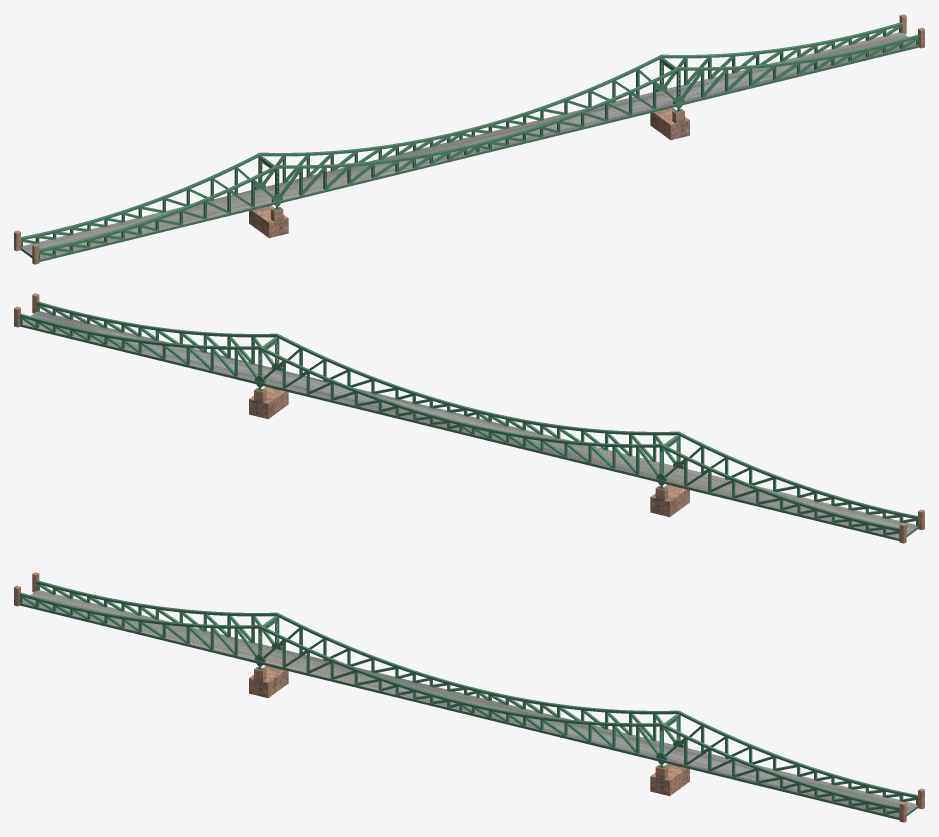
File: Eiserner Steg.fbx
3 renders of one model, top to bottom at view 1: azimuth 30°, elevation 25°; view 2: azimuth 150°, elevation 25°; view 3: azimuth 330°, elevation 25°, orthographic.
Visible parts, largest first — view 1: Object_32, Object_34, Object_33, Object_17, Object_23, Object_30, Object_24, Object_31, Object_18, Object_25, Object_7, Object_12; view 2: Object_32, Object_33, Object_34, Object_17, Object_30, Object_23, Object_31, Object_24, Object_25, Object_18, Object_7, Object_12; view 3: Object_32, Object_34, Object_33, Object_17, Object_23, Object_30, Object_18, Object_25, Object_24, Object_31, Object_7, Object_12.
Boxes of the visible parts, left/top/right/bottom form: Object_32: left=21, top=32, right=918, bottom=259; Object_34: left=21, top=22, right=902, bottom=240; Object_33: left=39, top=34, right=919, bottom=252; Object_17: left=21, top=45, right=919, bottom=261; Object_23: left=279, top=82, right=675, bottom=196; Object_30: left=263, top=69, right=658, bottom=184; Object_24: left=681, top=38, right=919, bottom=98; Object_31: left=664, top=26, right=902, bottom=86; Object_18: left=39, top=180, right=274, bottom=259; Object_25: left=21, top=168, right=256, bottom=247; Object_7: left=650, top=107, right=689, bottom=139; Object_12: left=249, top=205, right=288, bottom=238; Object_32: left=20, top=311, right=917, bottom=538; Object_33: left=36, top=301, right=917, bottom=519; Object_34: left=19, top=313, right=899, bottom=531; Object_17: left=19, top=324, right=917, bottom=540; Object_30: left=263, top=361, right=659, bottom=475; Object_23: left=280, top=348, right=675, bottom=463; Object_31: left=19, top=317, right=257, bottom=377; Object_24: left=36, top=305, right=274, bottom=365; Object_25: left=664, top=459, right=899, bottom=538; Object_18: left=682, top=447, right=917, bottom=526; Object_7: left=249, top=386, right=288, bottom=418; Object_12: left=650, top=484, right=689, bottom=517; Object_32: left=20, top=590, right=917, bottom=817; Object_34: left=36, top=580, right=917, bottom=798; Object_33: left=19, top=592, right=899, bottom=810; Object_17: left=19, top=603, right=917, bottom=819; Object_23: left=263, top=640, right=659, bottom=754; Object_30: left=280, top=627, right=675, bottom=742; Object_18: left=19, top=596, right=257, bottom=656; Object_25: left=36, top=584, right=274, bottom=644; Object_24: left=664, top=738, right=899, bottom=817; Object_31: left=682, top=726, right=917, bottom=805; Object_7: left=650, top=763, right=689, bottom=796; Object_12: left=249, top=665, right=288, bottom=697.
Bounding box in the file's own units: 183 × 7.5 × 13.6.
Materials: 3 (3 with a texture image).
